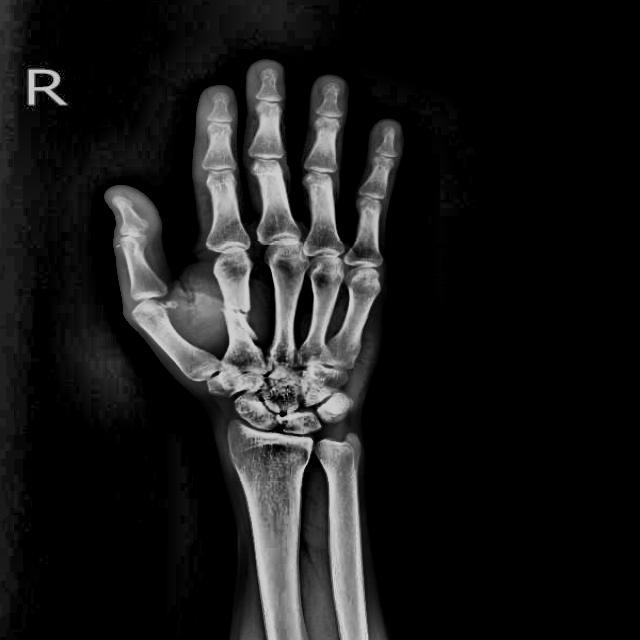fracture: (220, 304, 255, 344)
